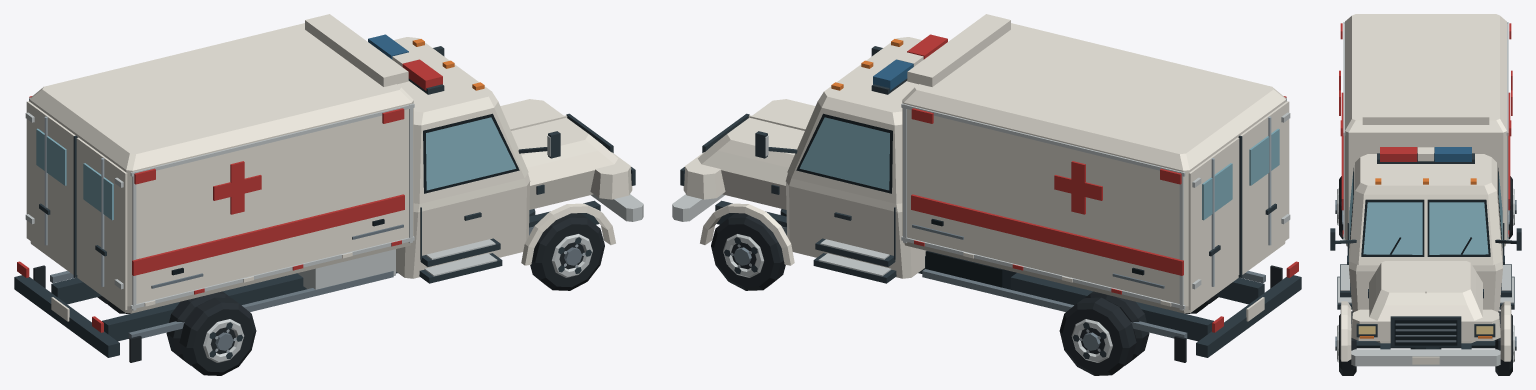
The model's file is b15_modular_ambulance.glb.
3 renders of one model, left to right at view 1: azimuth 30°, elevation 25°; view 2: azimuth 150°, elevation 25°; view 3: azimuth 270°, elevation 25°, orthographic. The views are drawn at different scales.
Parts seen in each view (by area): view 1: b15_modular_ambulance; view 2: b15_modular_ambulance; view 3: b15_modular_ambulance.
Boxes of the visible parts, <box> form: b15_modular_ambulance: <box>14,14,643,375</box>; b15_modular_ambulance: <box>672,14,1301,375</box>; b15_modular_ambulance: <box>1330,14,1521,375</box>.
Size of the model in its own units: 7.43 by 3.22 by 2.84.
